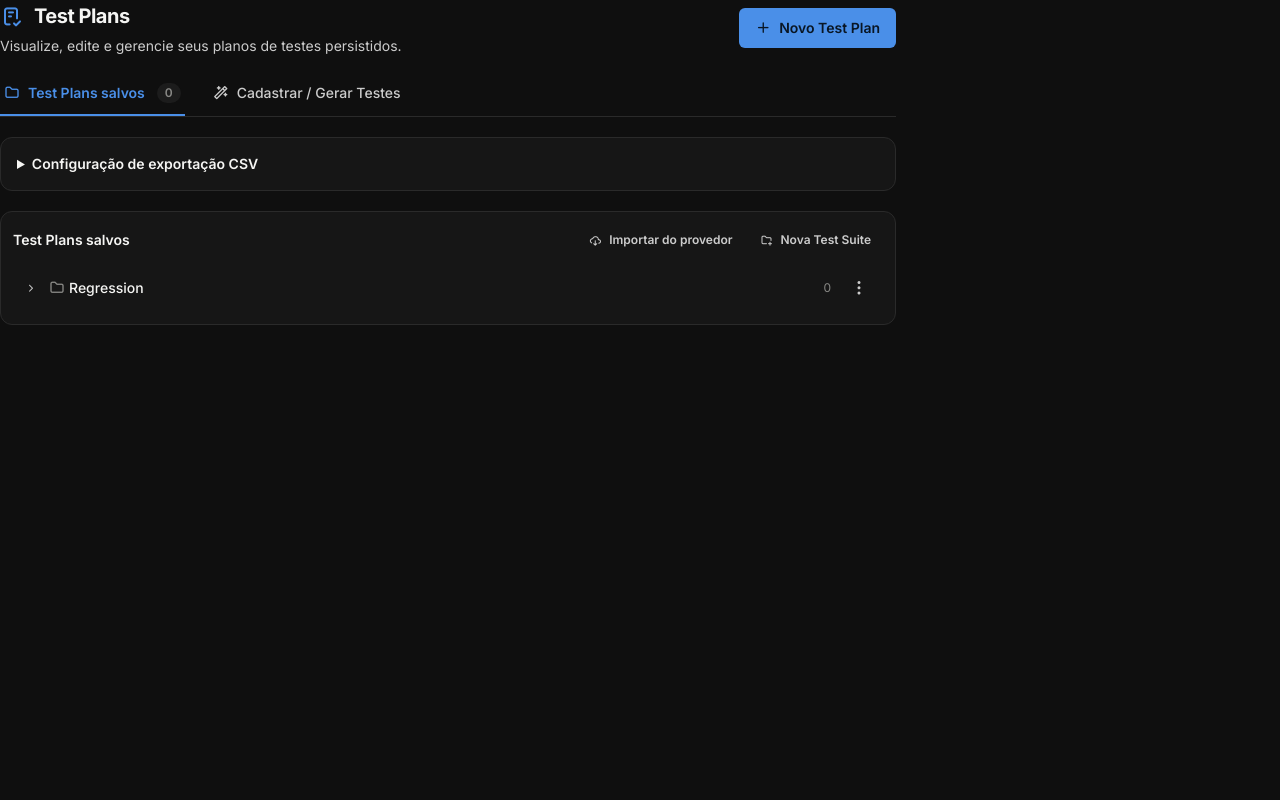
Test: TestPlansView suite management › reports a suite that cannot be deleted
Expected: the element with test id "test-suite-tree" is shown, [0, 211, 896, 325]
Click the button named "Ações: Regression" at (859, 288), box [839, 268, 879, 308]
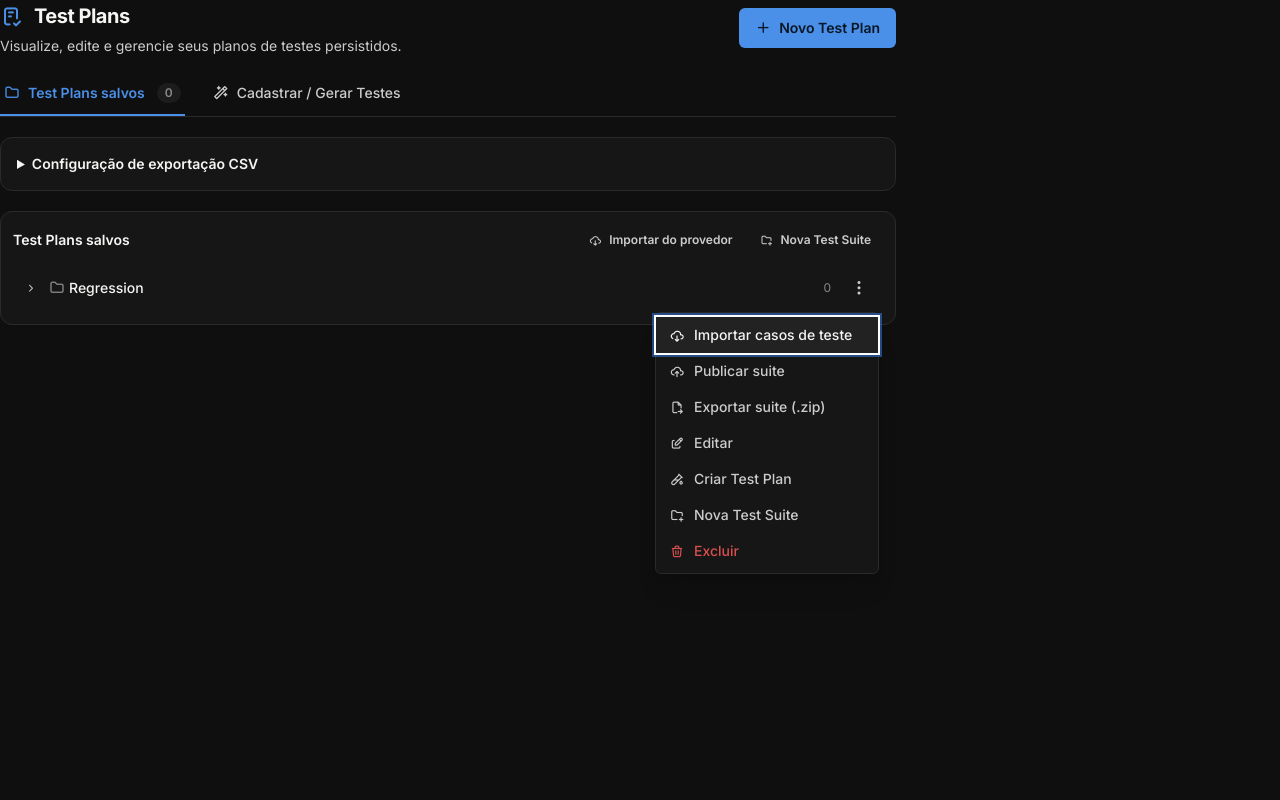
Click the button "Excluir" at (767, 551), box [656, 533, 878, 569]
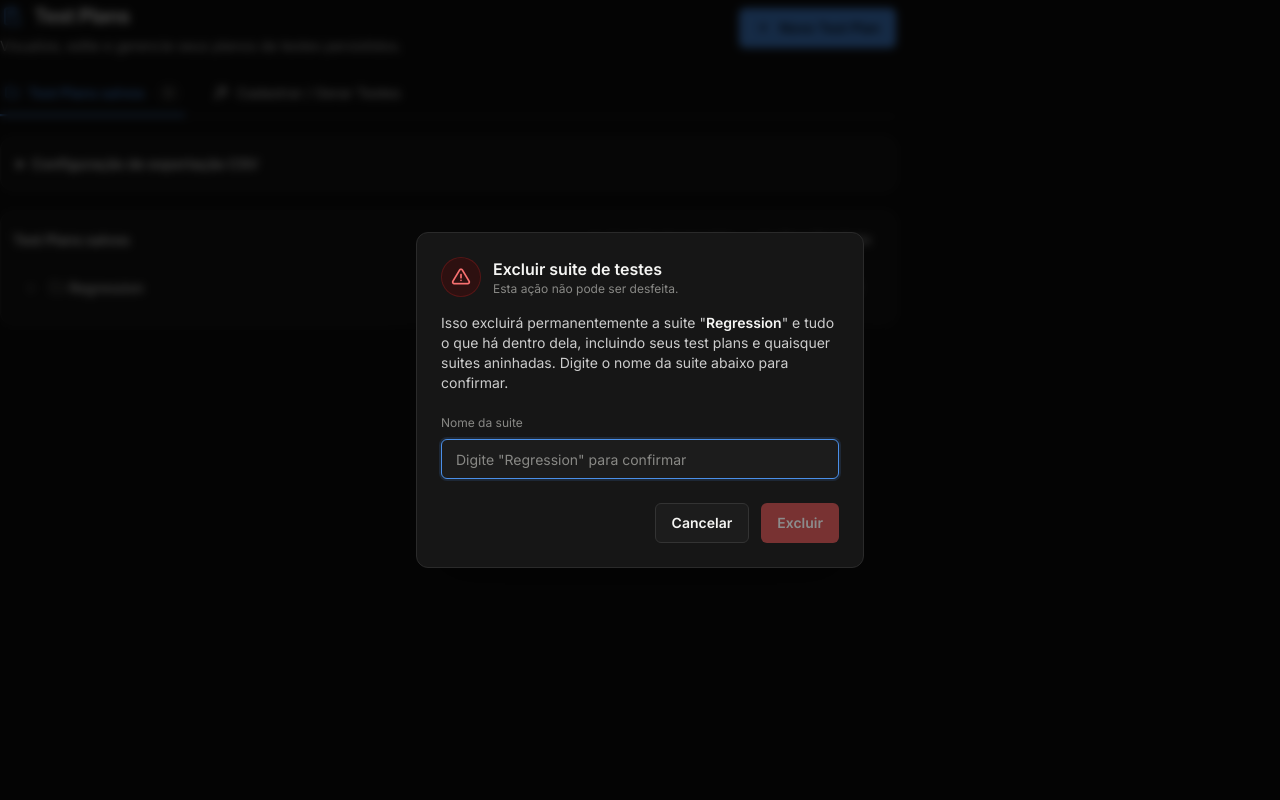
Type "Regression" into the field with test id "delete-suite-confirm-input" at (640, 459), box [441, 439, 839, 479]
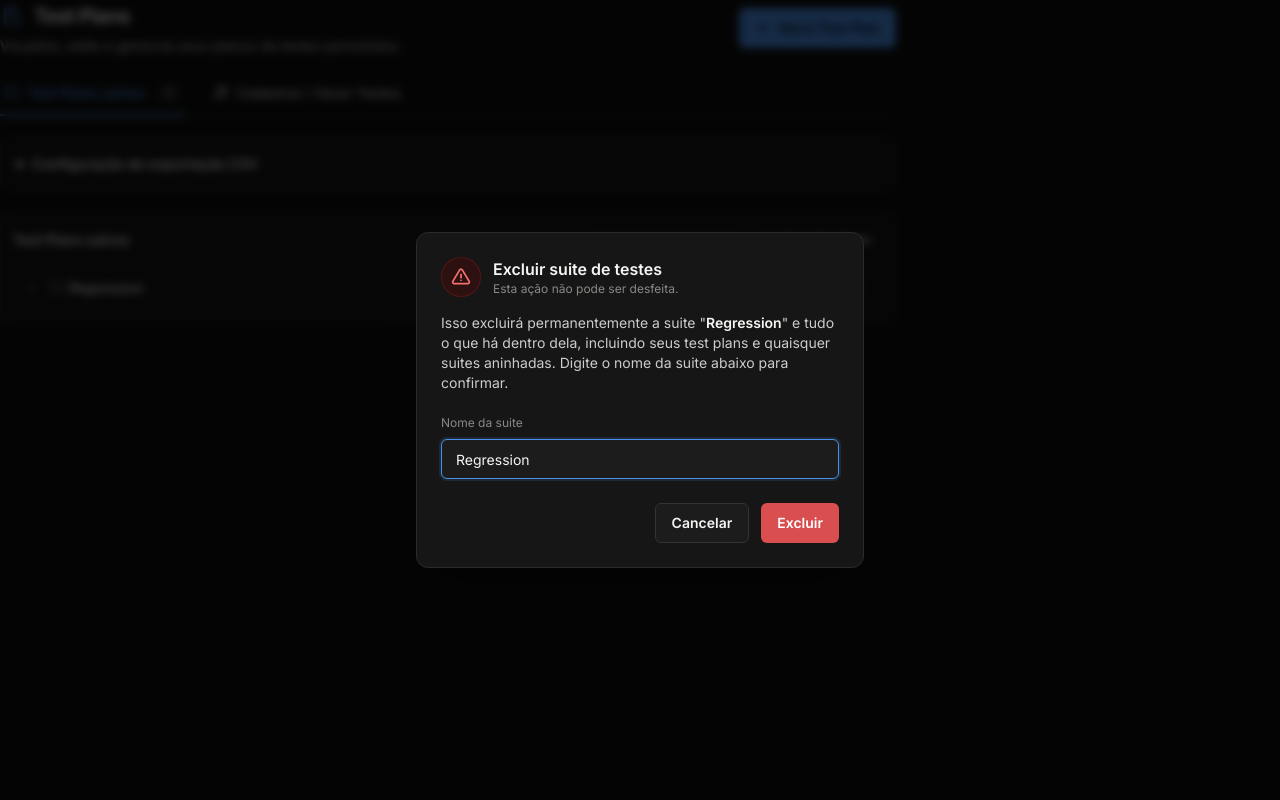
Click the button with test id "confirm-delete-suite-btn" at (800, 523), box [761, 503, 839, 543]
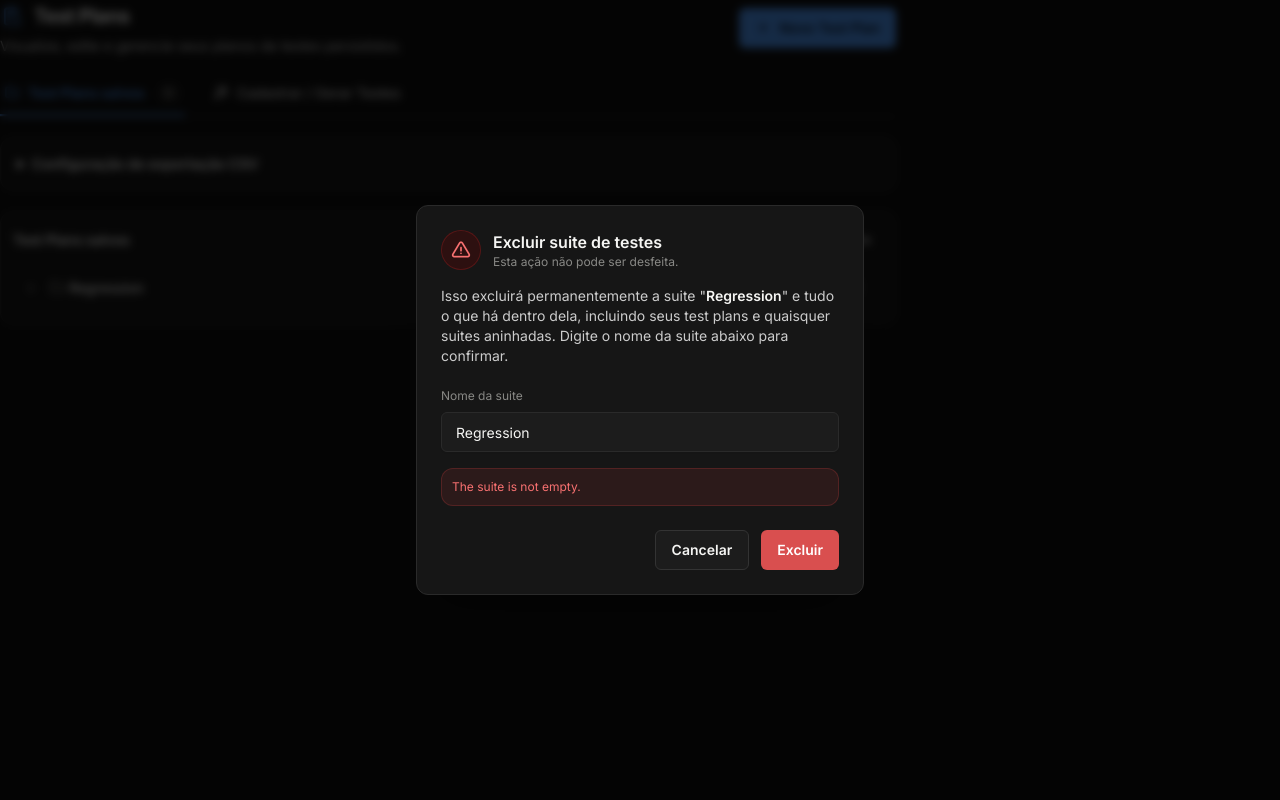
Now the text "The suite is not empty." is shown, box [441, 468, 839, 506]
